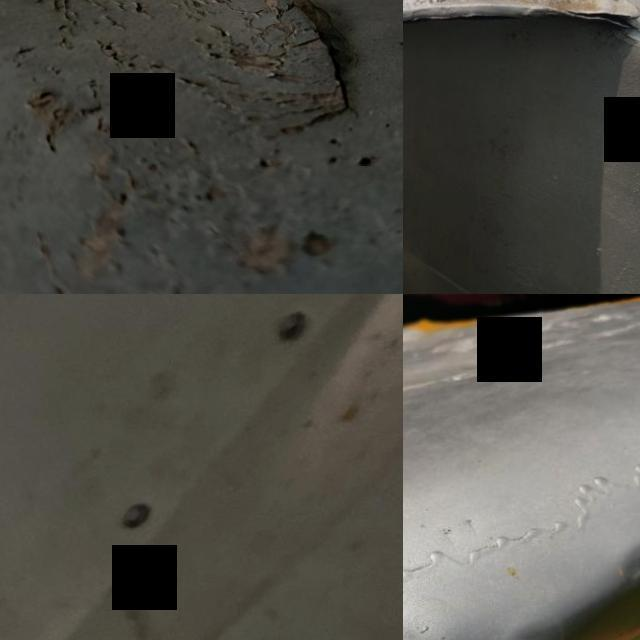Crack: (23, 0, 396, 152), (545, 0, 640, 49)
Dent: (403, 538, 566, 640), (611, 525, 640, 601)
Missing_Fastener: (276, 308, 314, 346), (118, 500, 158, 529)
